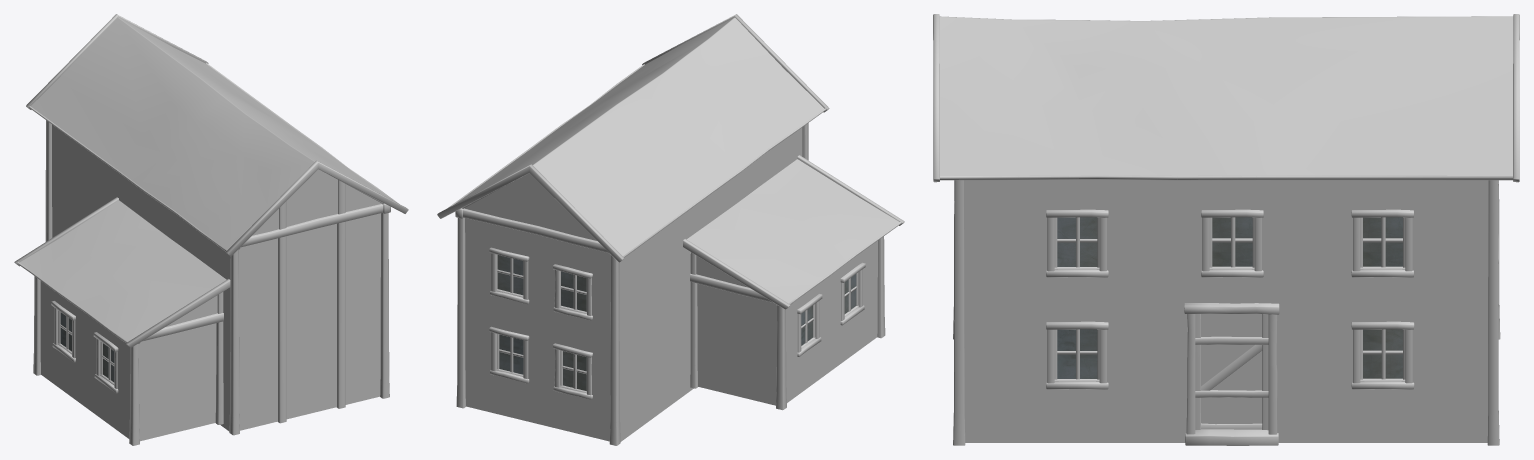
File: House_11.FBX
The picture shows the model from 3 angles, left to right: view 1: azimuth 30°, elevation 25°; view 2: azimuth 150°, elevation 25°; view 3: azimuth 270°, elevation 25°; orthographic projection. The views are drawn at different scales.
Visible parts, largest first — view 1: Mesh; view 2: Mesh; view 3: Mesh.
Boxes of the visible parts, x1,y1,x2,y2 form: Mesh: [14, 14, 408, 445]; Mesh: [437, 14, 904, 445]; Mesh: [933, 14, 1519, 445].
Size of the model in its own units: 757 by 991 by 708.
